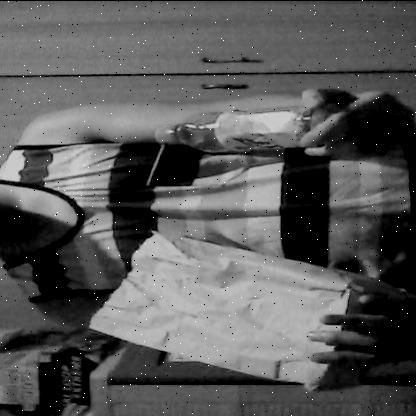Plastic Bottle: (147, 92, 352, 158)
